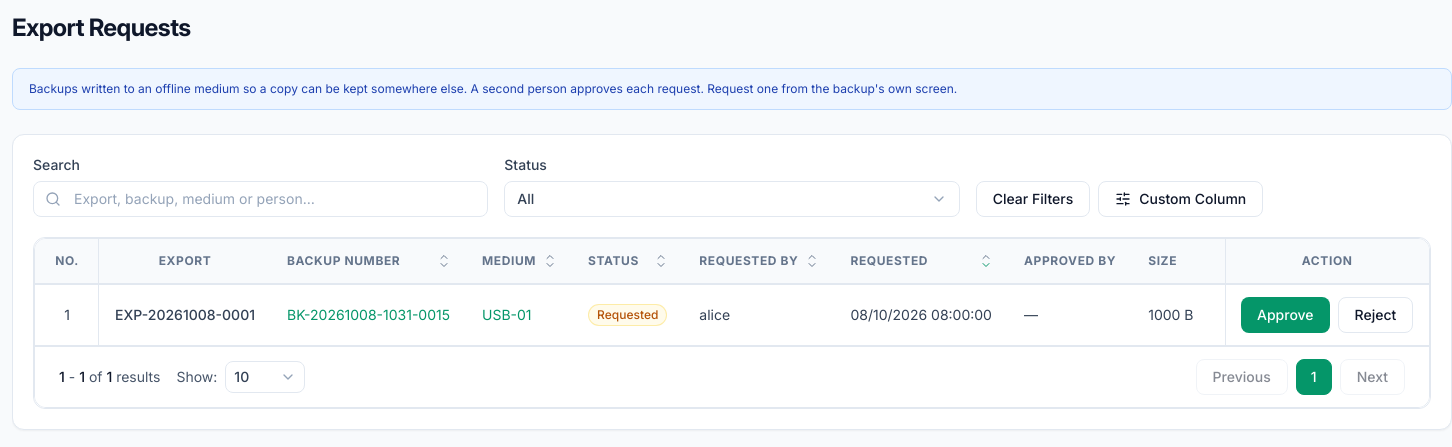
Test case: Backup Storage & Encryption › explains a refused approval in plain words
This screenshot has width=1452, height=447.
Step 1. Click the button "Approve" → (1285, 314), box 1241,296 -> 1329,332
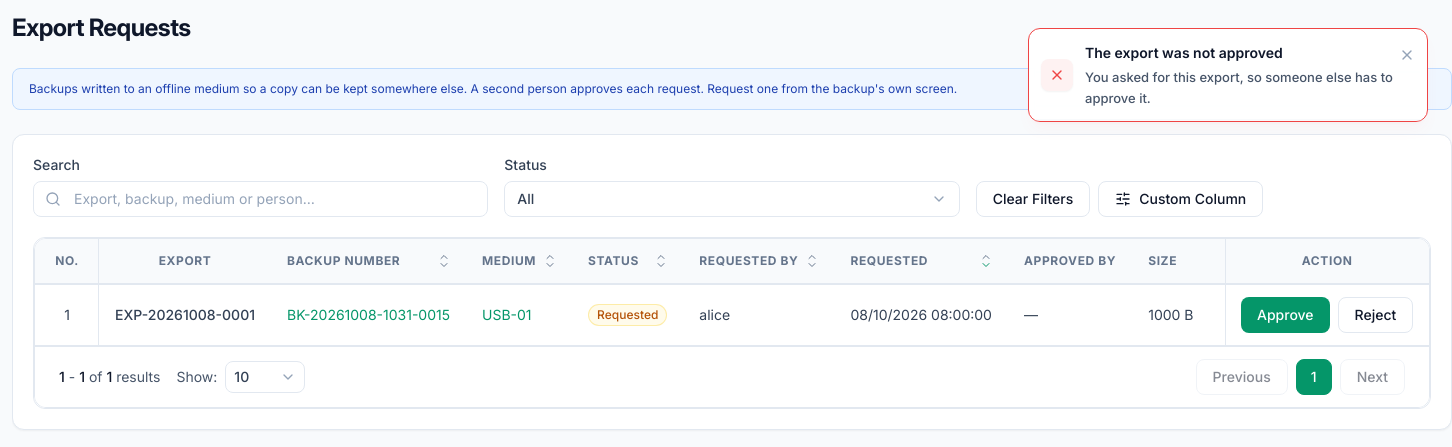
Expected: the text "You asked for this export, so someone else has to approve it" is shown, 1085,69 -> 1393,106
